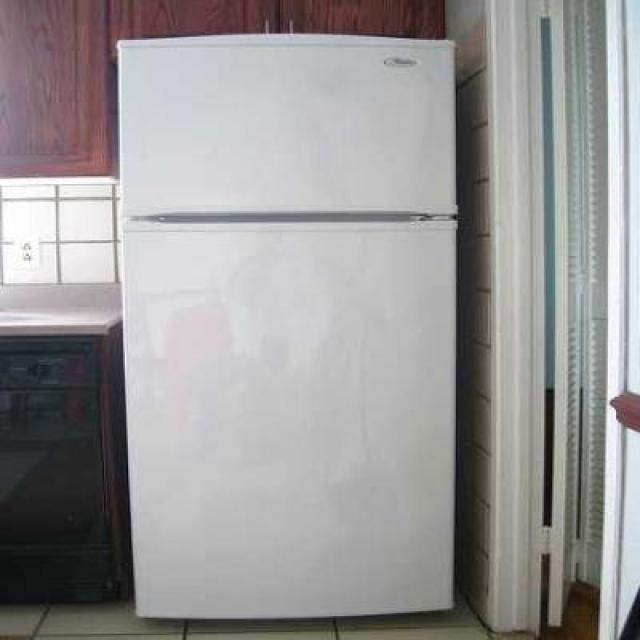refrigerator: (117, 32, 461, 624)
